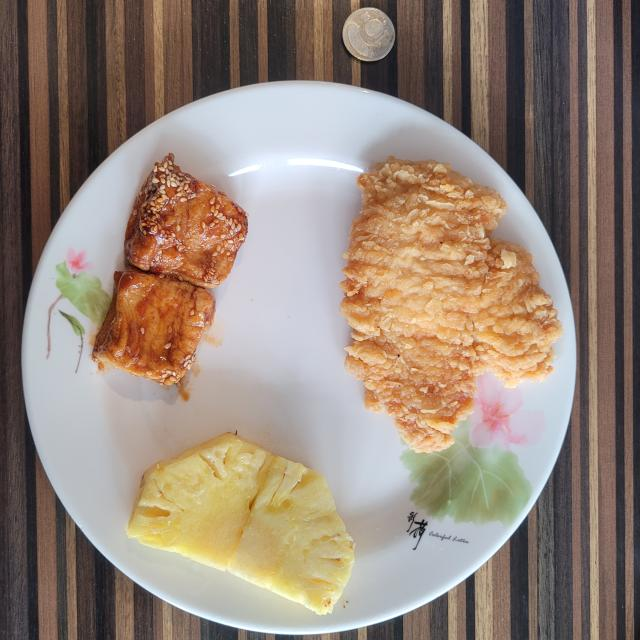coin: (342, 8, 395, 61)
creamy tofu: (92, 154, 248, 385)
fried chicken cutlet: (340, 158, 562, 452)
pineapple: (126, 434, 355, 614)
